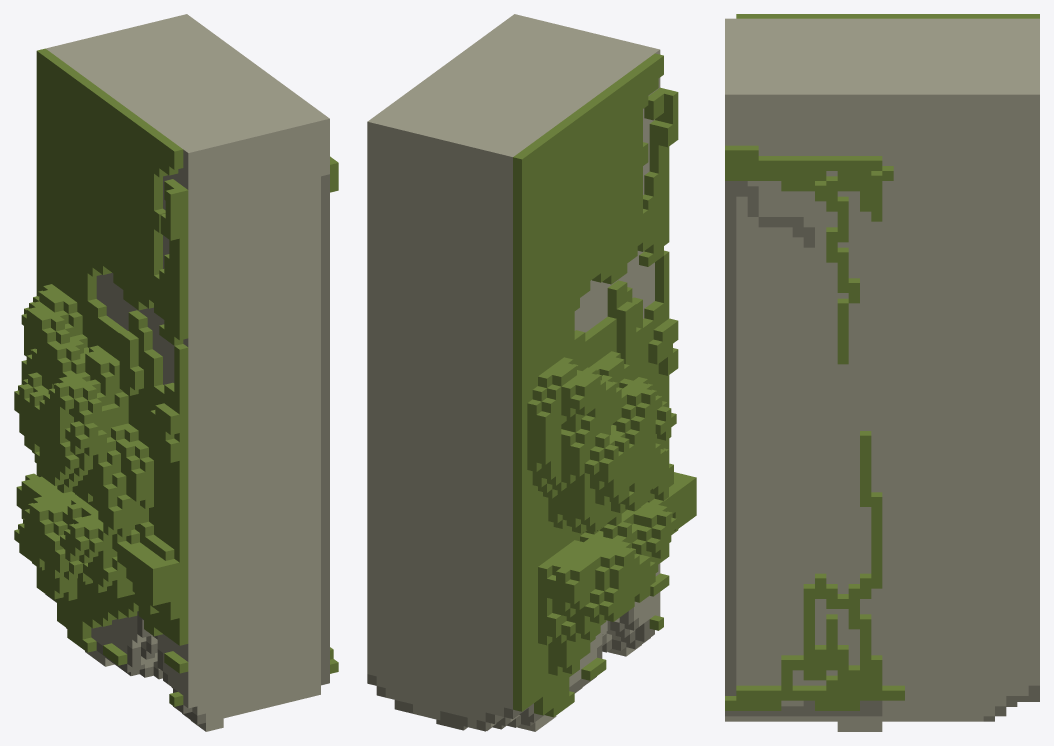
Rendered from forest1.3-16.obj.
3 views of the same model, side by side, from view 1: azimuth 30°, elevation 25°; view 2: azimuth 150°, elevation 25°; view 3: azimuth 270°, elevation 25° (orthographic). The views are drawn at different scales.
Bounding box in the file's own units: 2.5 × 6.3 × 2.8.
Materials: 1 (1 with a texture image).
